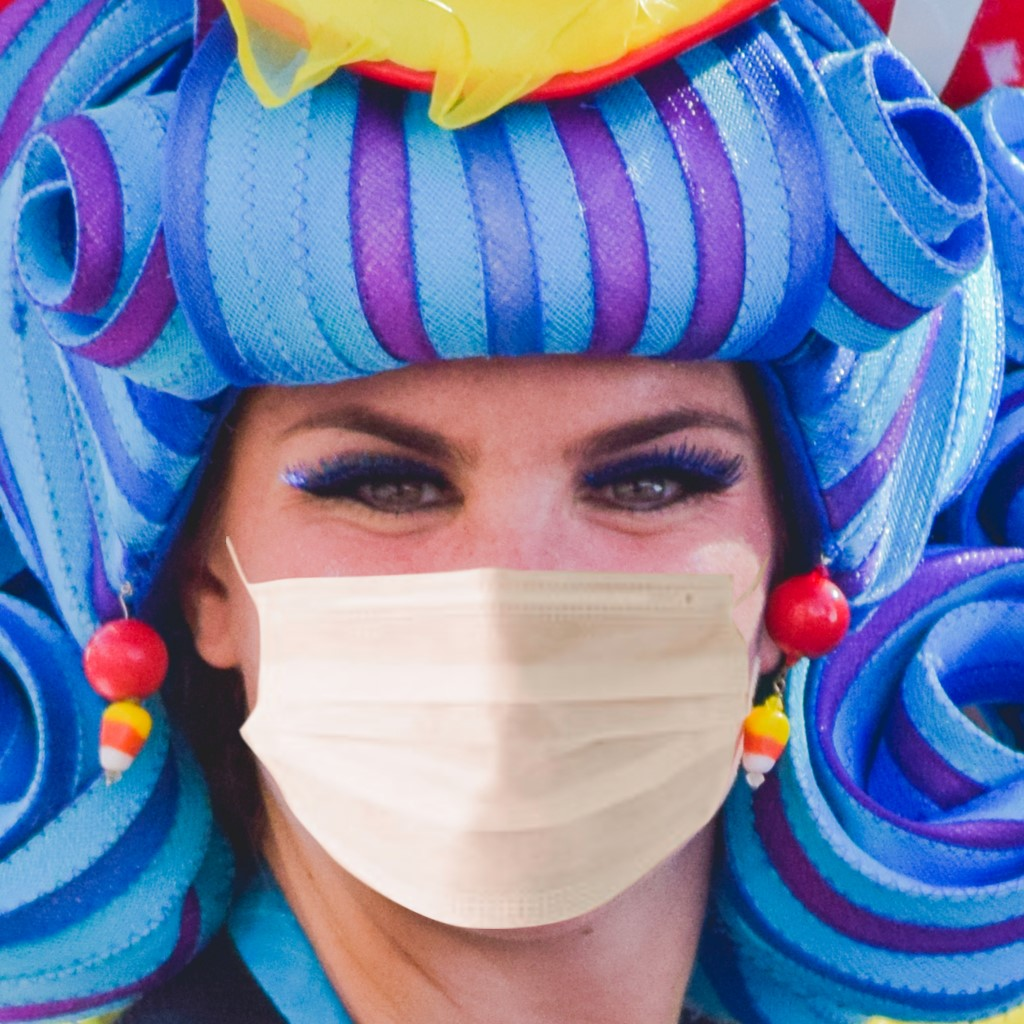con_mascara: (195, 232, 773, 913)
